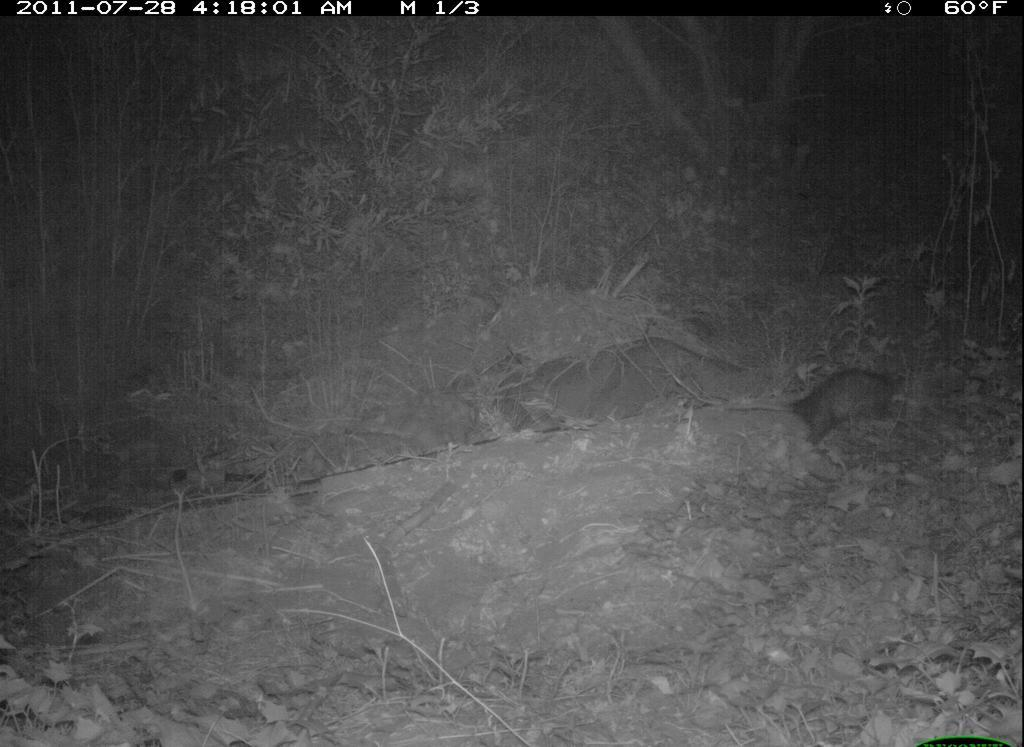opossum: (711, 361, 909, 450)
